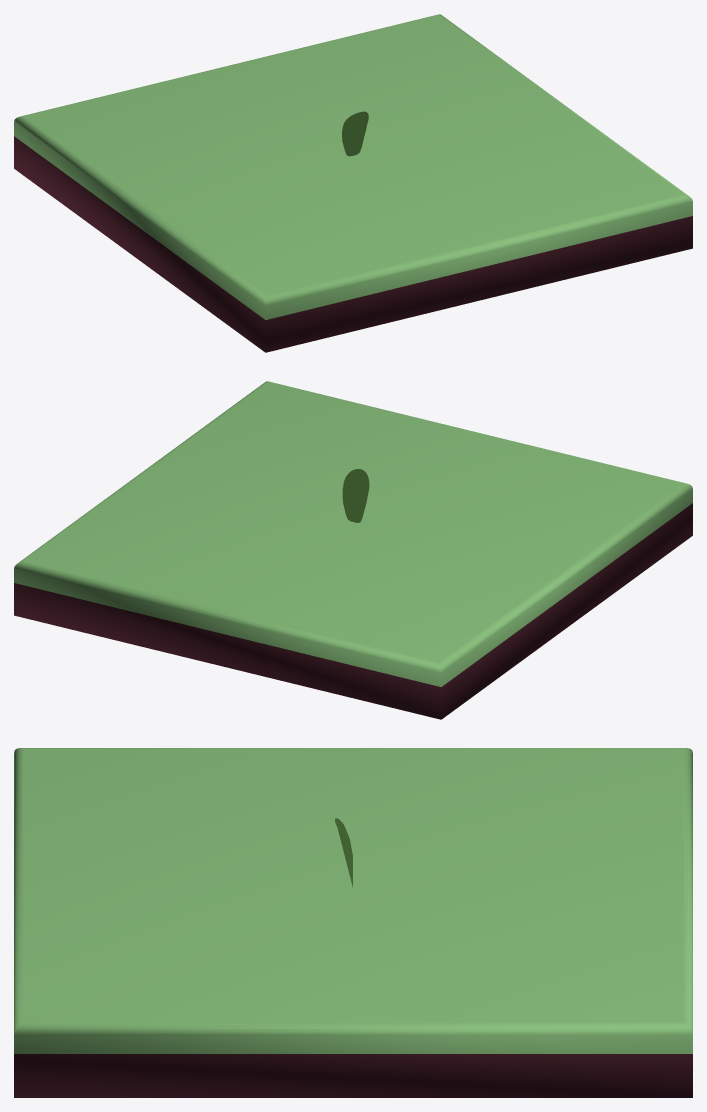
File: platform1.fbx
3 renders of one model, top to bottom at view 1: azimuth 30°, elevation 25°; view 2: azimuth 150°, elevation 25°; view 3: azimuth 270°, elevation 25°, orthographic. The views are drawn at different scales.
Parts seen in each view (by area): view 1: Base, Grass; view 2: Base, Grass; view 3: Base.
Boxes of the visible parts, x1,y1,x2,y2 form: Base: [14, 14, 692, 352]; Grass: [342, 111, 368, 156]; Base: [14, 381, 692, 719]; Grass: [342, 469, 369, 522]; Base: [14, 748, 692, 1097].
Size of the model in its own units: 12.75 by 2.89 by 13.
